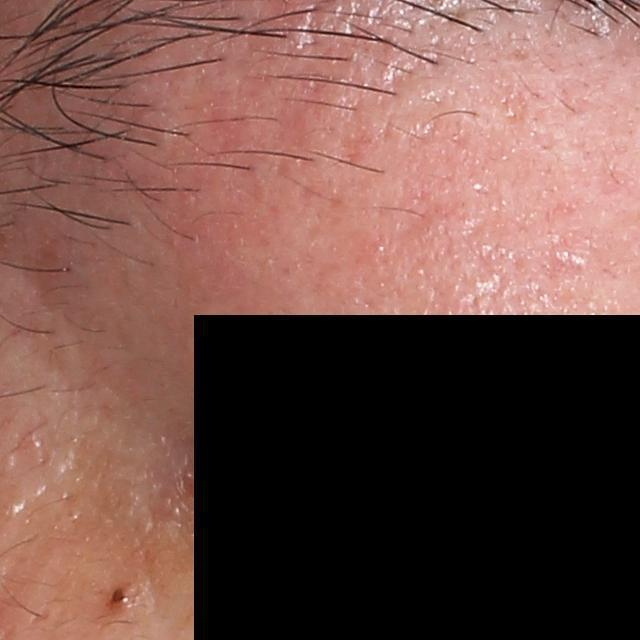nevus: (111, 585, 130, 604)
